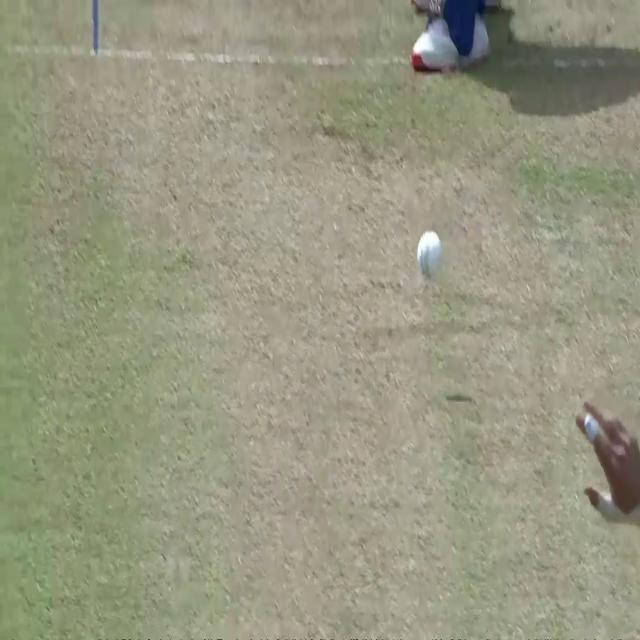ball: (417, 230, 443, 278)
